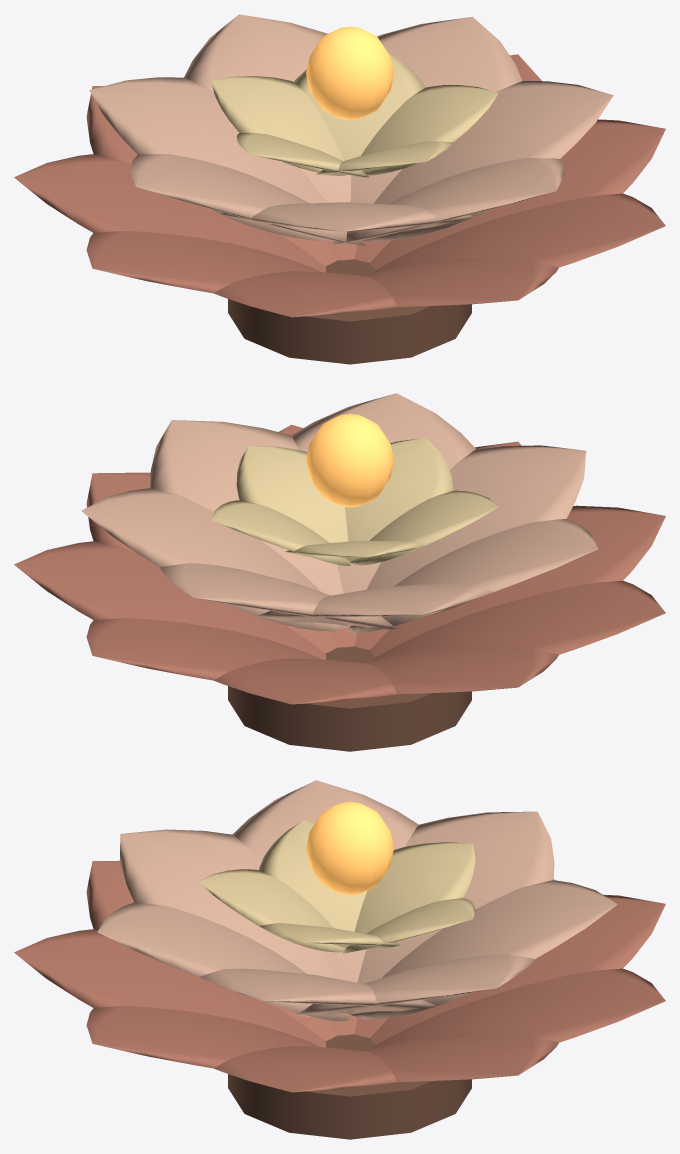
The model's file is sand-rose.glb.
3 views of the same model, one above another, from view 1: azimuth 30°, elevation 25°; view 2: azimuth 150°, elevation 25°; view 3: azimuth 270°, elevation 25° (orthographic).
Visible parts, largest first — view 1: Vesper / sand-rose; view 2: Vesper / sand-rose; view 3: Vesper / sand-rose.
Part boxes in pixels (x1,y1,x2,y2): Vesper / sand-rose: (14, 14, 665, 364); Vesper / sand-rose: (14, 393, 665, 751); Vesper / sand-rose: (14, 780, 665, 1139).
Bounding box in the file's own units: 1.95 × 0.92 × 1.92.
